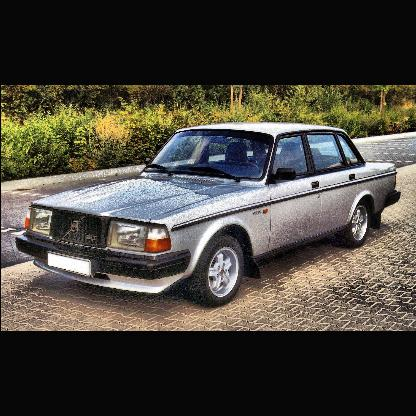Volvo 240 Sedan 1993: (16, 123, 404, 312)
